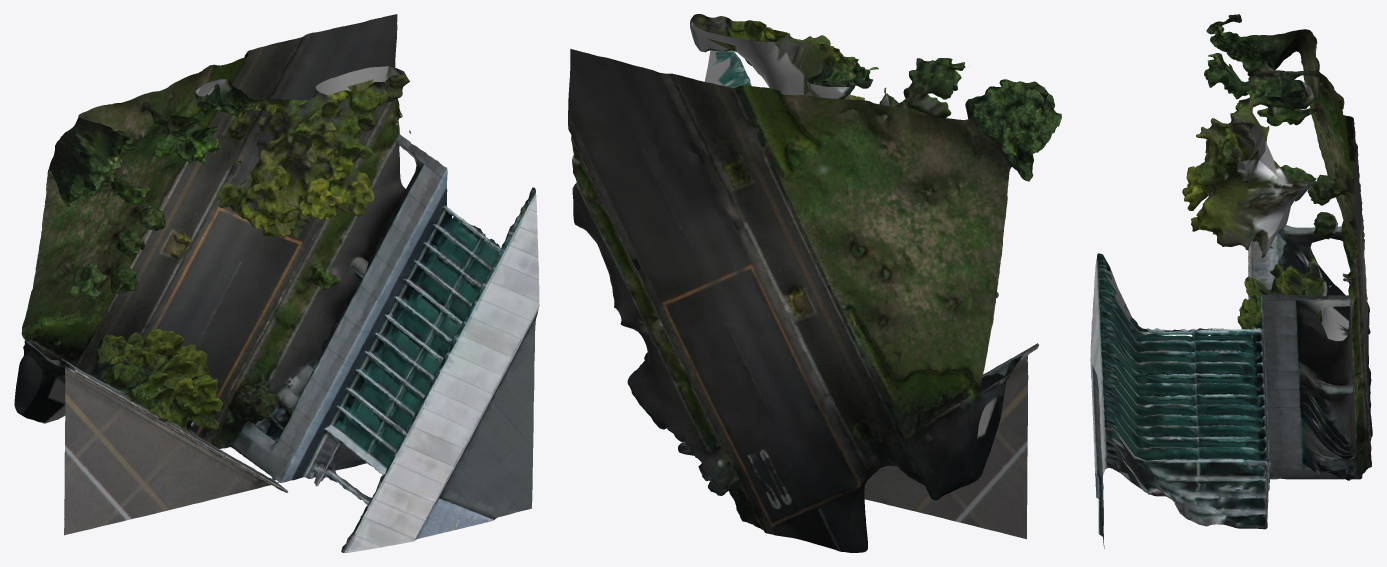
Rendered from Tile_+013_+014.fbx.
3 views of the same model, side by side, from view 1: azimuth 30°, elevation 25°; view 2: azimuth 150°, elevation 25°; view 3: azimuth 270°, elevation 25° (orthographic). The views are drawn at different scales.
Parts seen in each view (by area): view 1: DefaultName; view 2: DefaultName; view 3: DefaultName.
Part boxes in pixels (x1,y1,x2,y2): DefaultName: (14, 14, 539, 552); DefaultName: (568, 14, 1061, 552); DefaultName: (1090, 14, 1372, 548).
Size of the model in its own units: 22.54 by 22.54 by 15.69.
